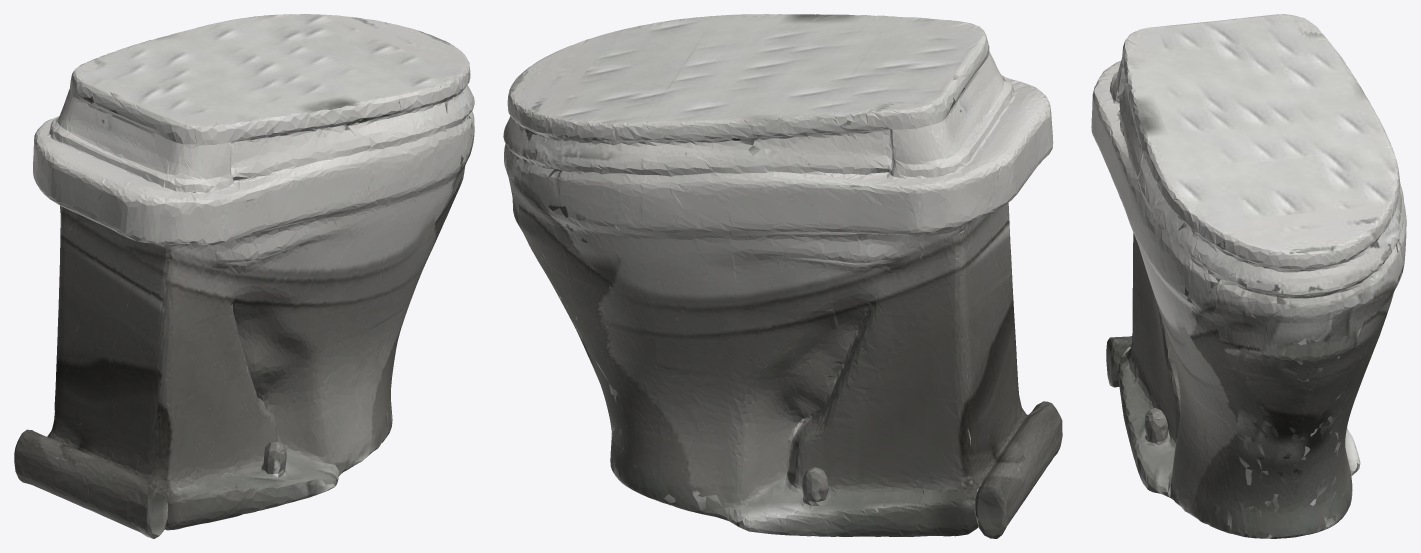
Rendered from bathroom-2-00-toilet.glb.
3 views of the same model, side by side, from view 1: azimuth 30°, elevation 25°; view 2: azimuth 150°, elevation 25°; view 3: azimuth 270°, elevation 25° (orthographic). The views are drawn at different scales.
Visible parts, largest first — view 1: geometry_0; view 2: geometry_0; view 3: geometry_0.
Boxes of the visible parts, x1,y1,x2,y2 form: geometry_0: (14,14,474,538); geometry_0: (503,14,1062,538); geometry_0: (1091,14,1406,538).
Size of the model in its own units: 0.5124 by 0.4413 by 0.3233.
Materials: 1 (1 with a texture image).
